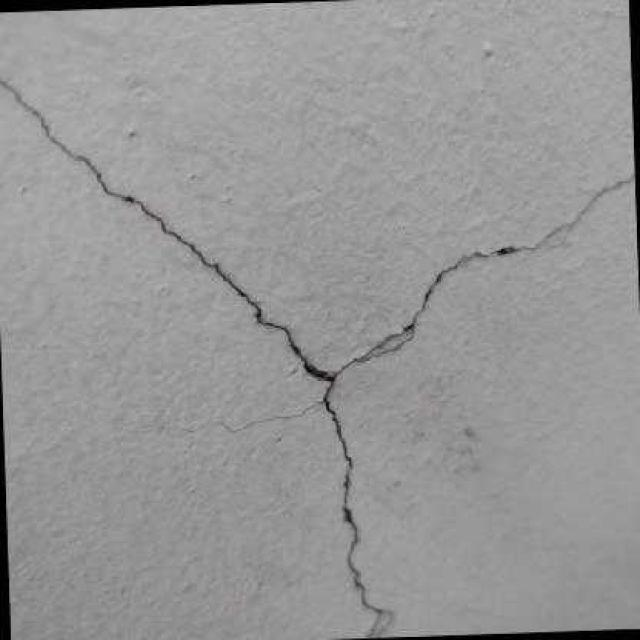D00: (0, 72, 635, 639)
